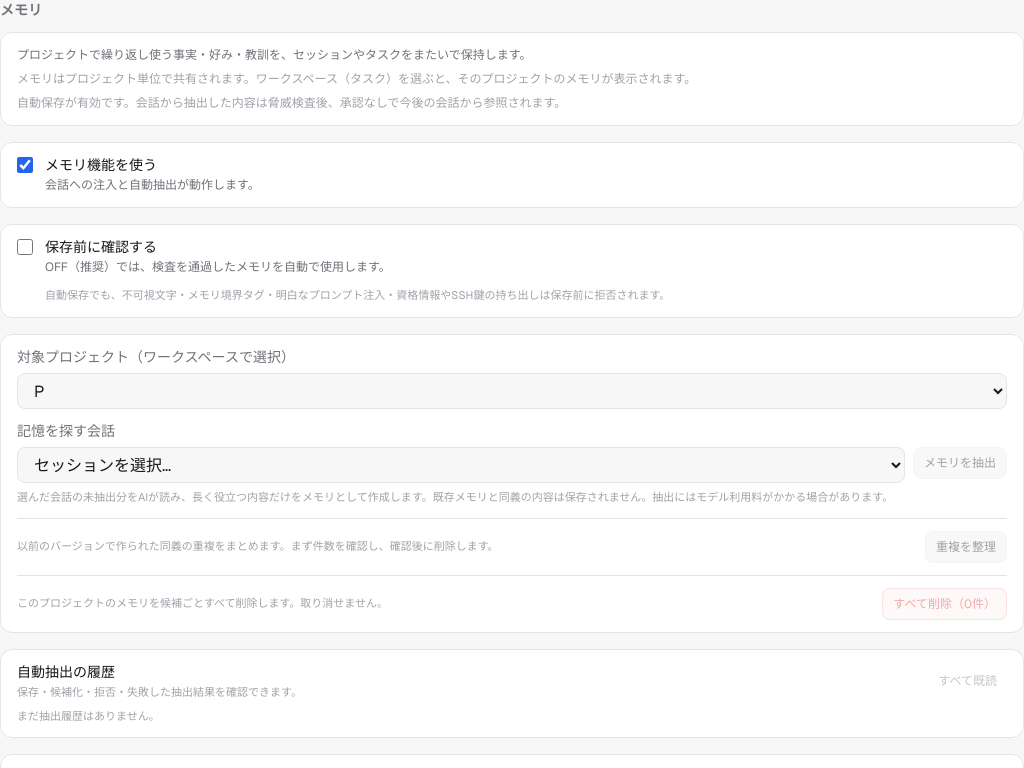
Test: MemorySettings › toggles the shared write approval setting
This screenshot has width=1024, height=768.
Click the checkbox named "メモリの保存前確認".
click(25, 247)  # box x1=17 y1=239 x2=33 y2=255
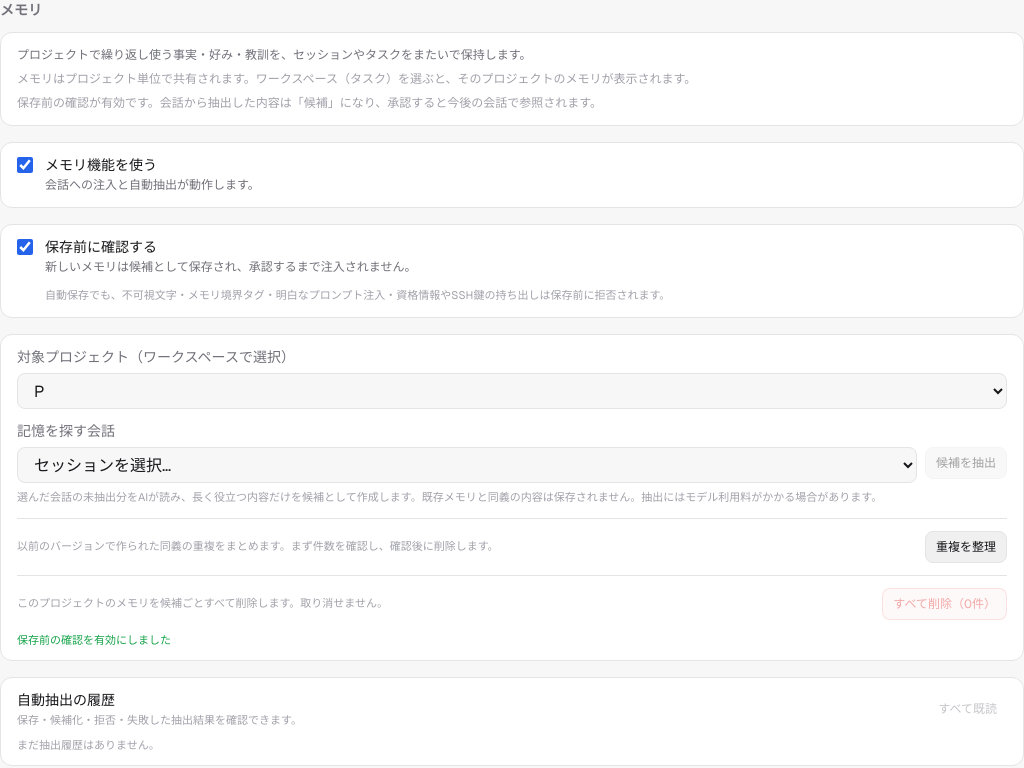
Check: the text "保存前の確認が有効です。会話から抽出した内容は「候補」になり、承認すると今後の会話で参照されます。" is shown, box x1=17 y1=95 x2=602 y2=111
